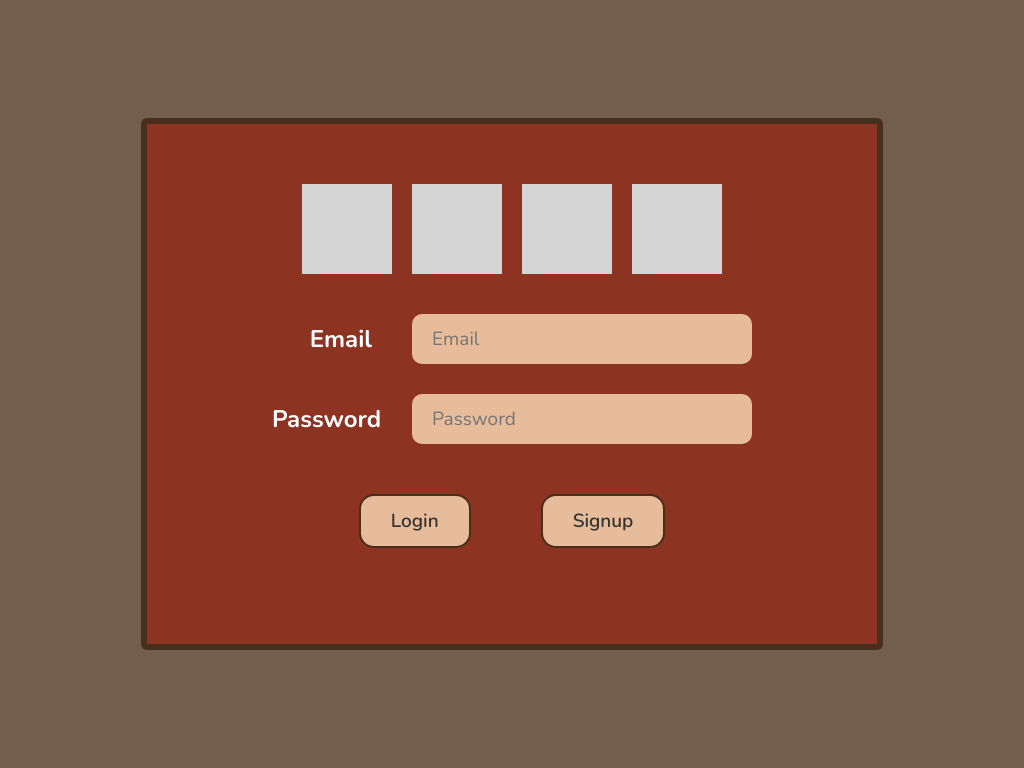
Scenario: Login.invalid › login renders an invalid state when invalid credentials are supplied
Click the button "Login" at [415, 521], box [359,494,471,548]
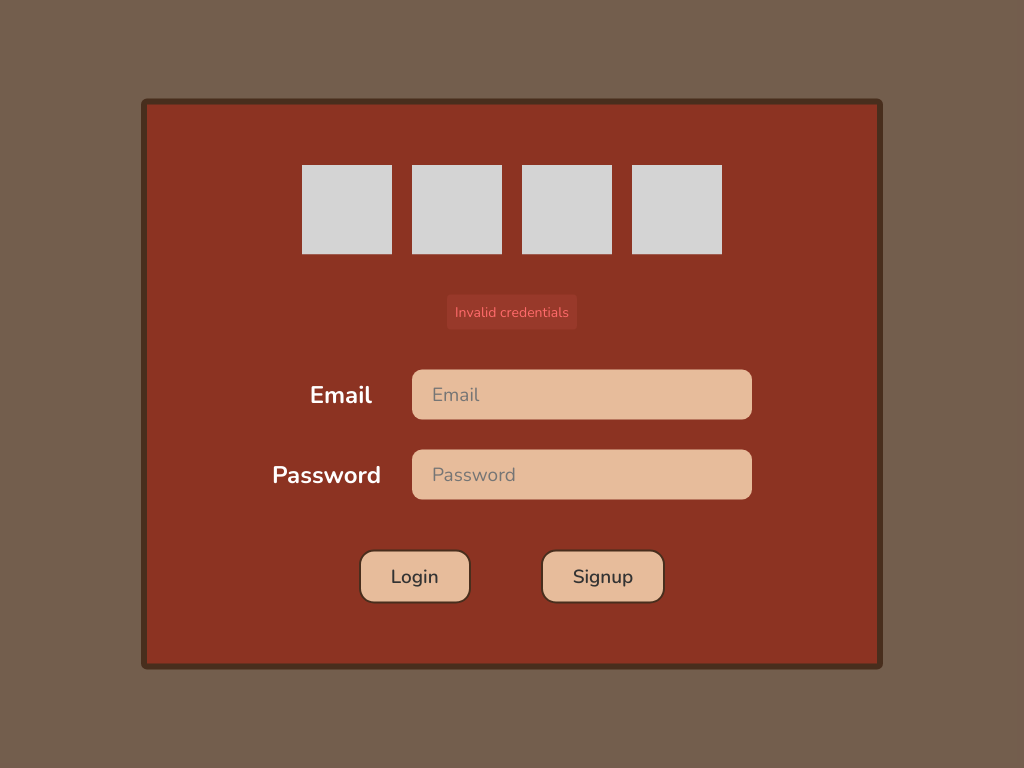
Now the text "Invalid credentials" is shown, box [447,294,577,330]
